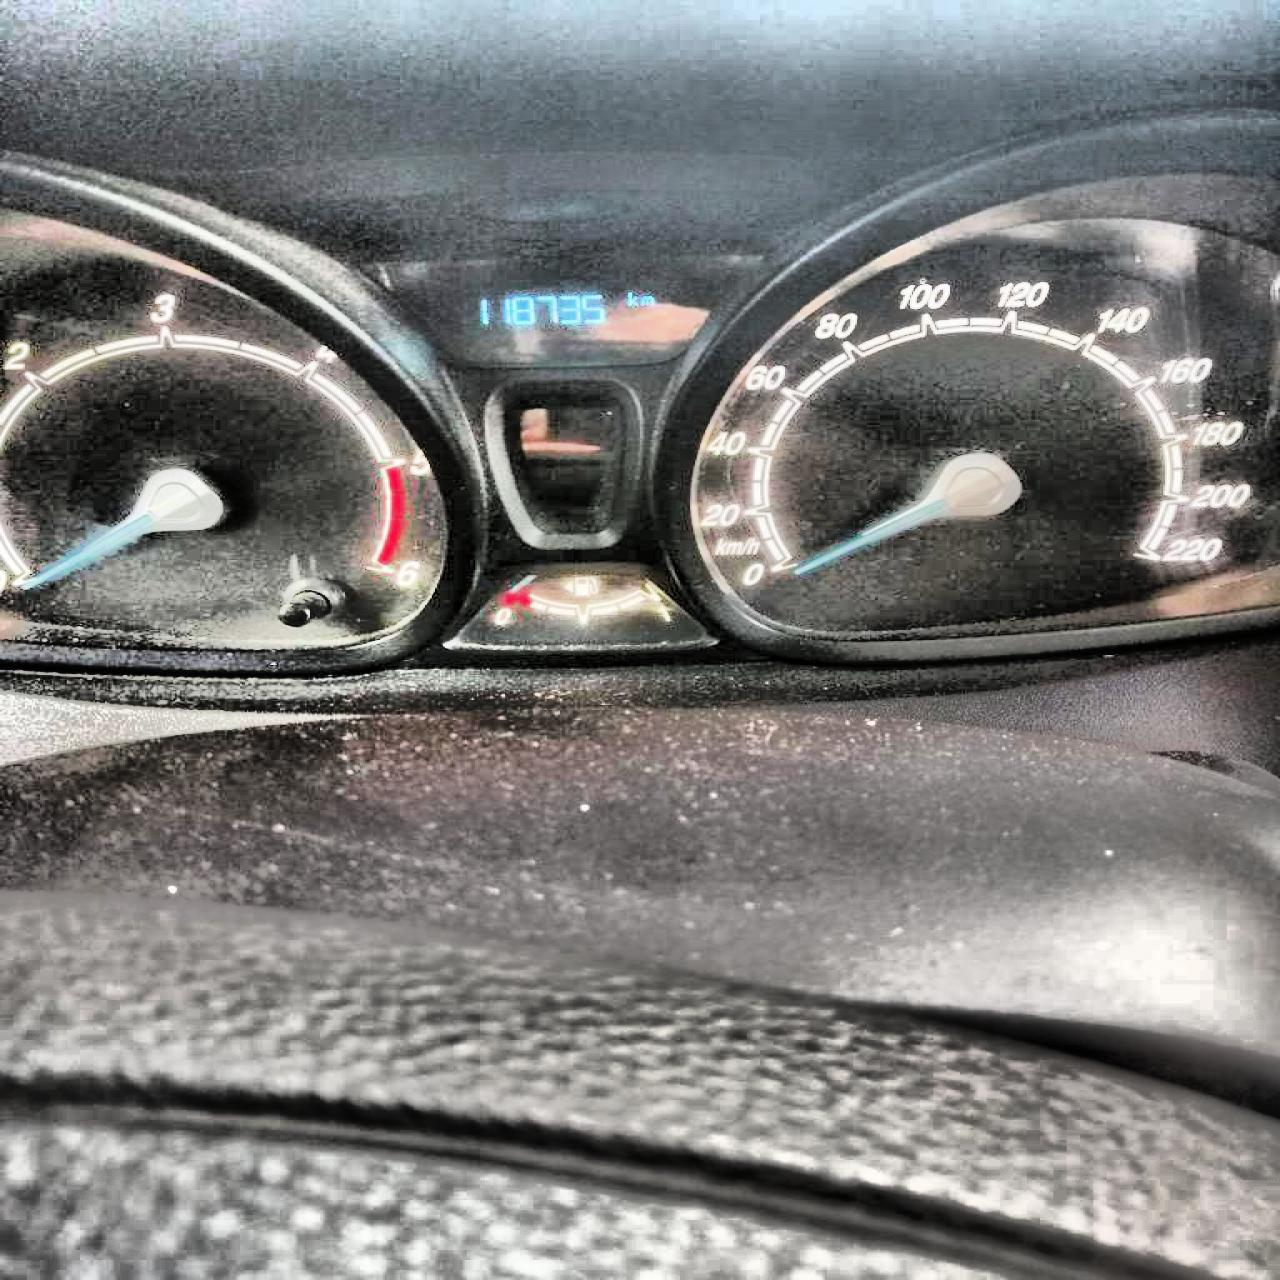1: (478, 298, 486, 324), (502, 298, 510, 322)
3: (558, 295, 580, 322)
5: (580, 293, 604, 322)
7: (536, 295, 557, 322)
8: (510, 297, 533, 324)
X: (626, 291, 636, 305), (639, 295, 654, 305)
odometer: (367, 259, 734, 372)
